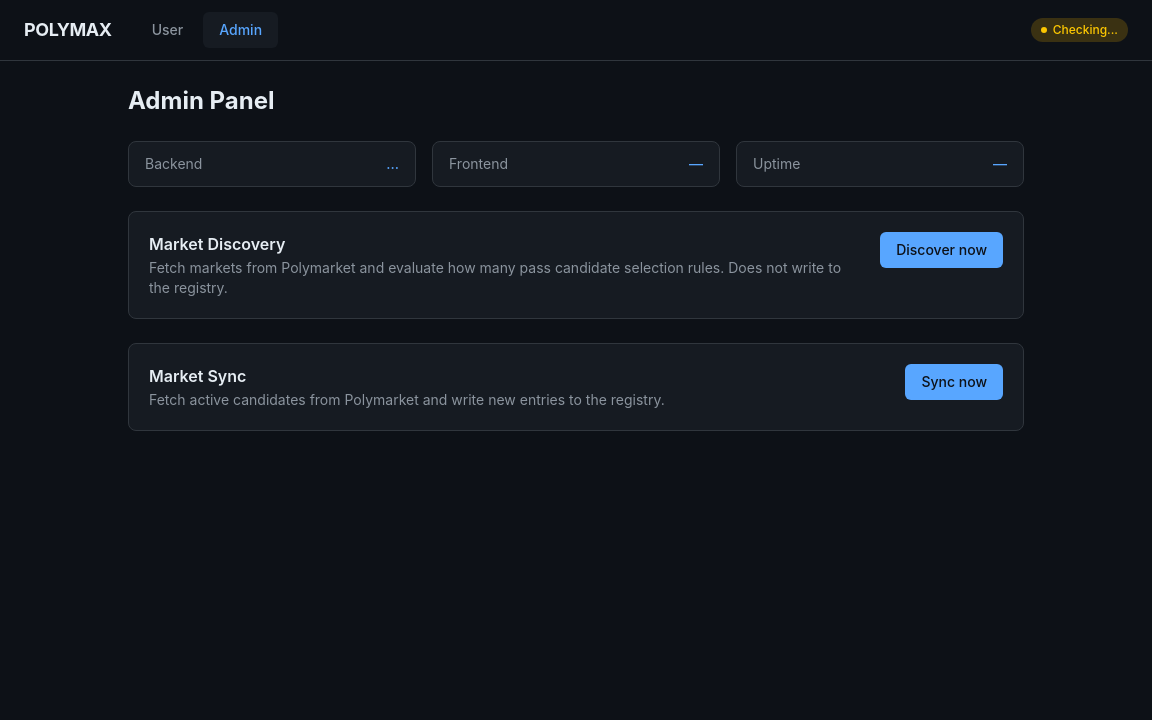
SyncAction › renders sync summary on successful response
Click the button "Sync now": (954, 382) [905,364,1003,400]
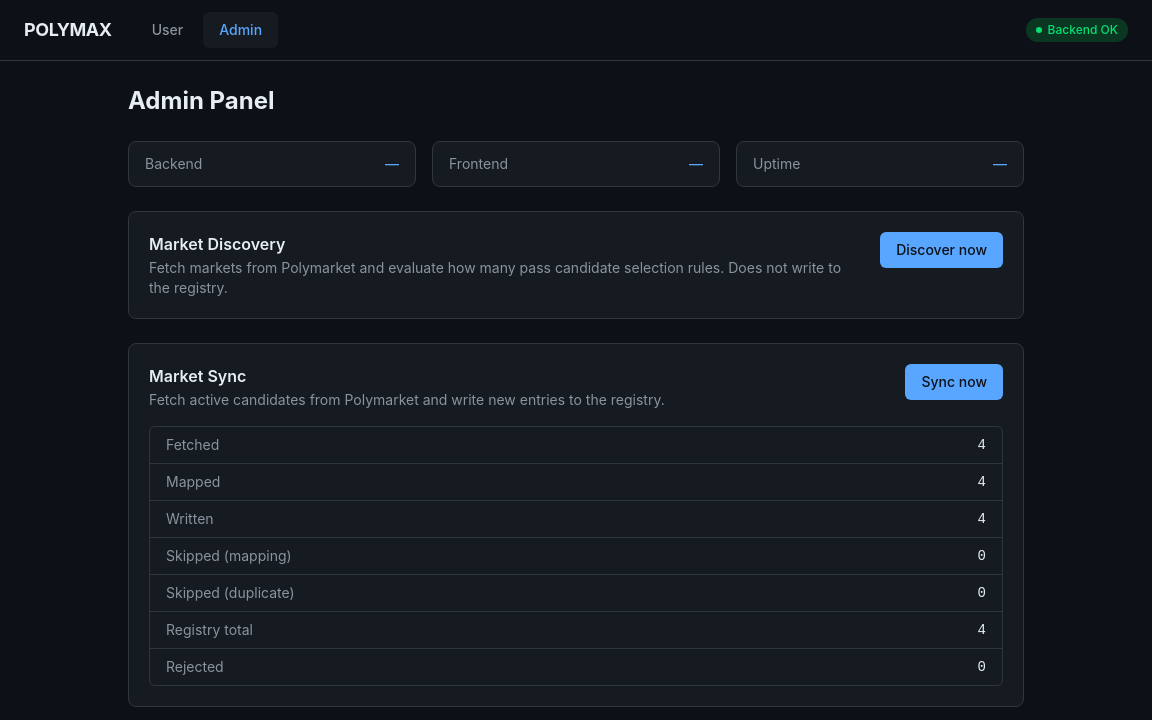
expect the element named "sync result" is shown: met, box [149,426,1003,686]
expect the text "Written" is shown: met, box [166,509,214,529]
expect the text "Fetched" is shown: met, box [166,435,219,455]
